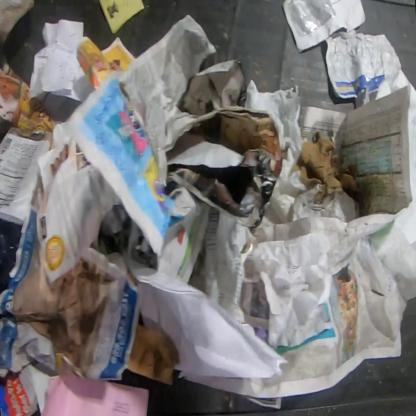cardboard: (290, 129, 358, 204), (217, 111, 287, 179), (126, 320, 179, 387)
soft_plastic: (0, 126, 53, 226), (367, 216, 415, 302), (0, 218, 22, 296)
